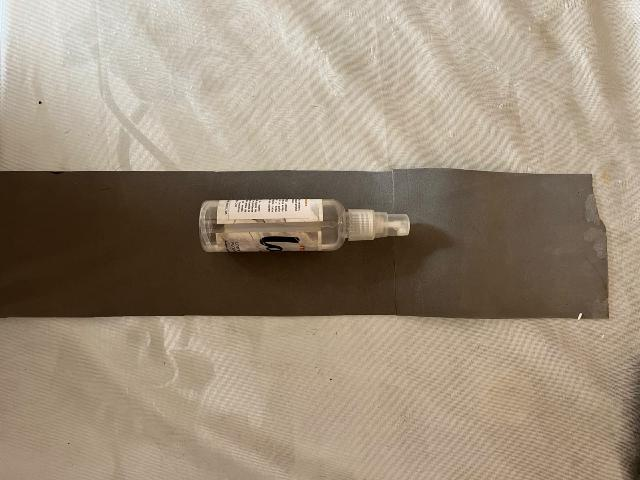PET: (177, 186, 431, 288)
